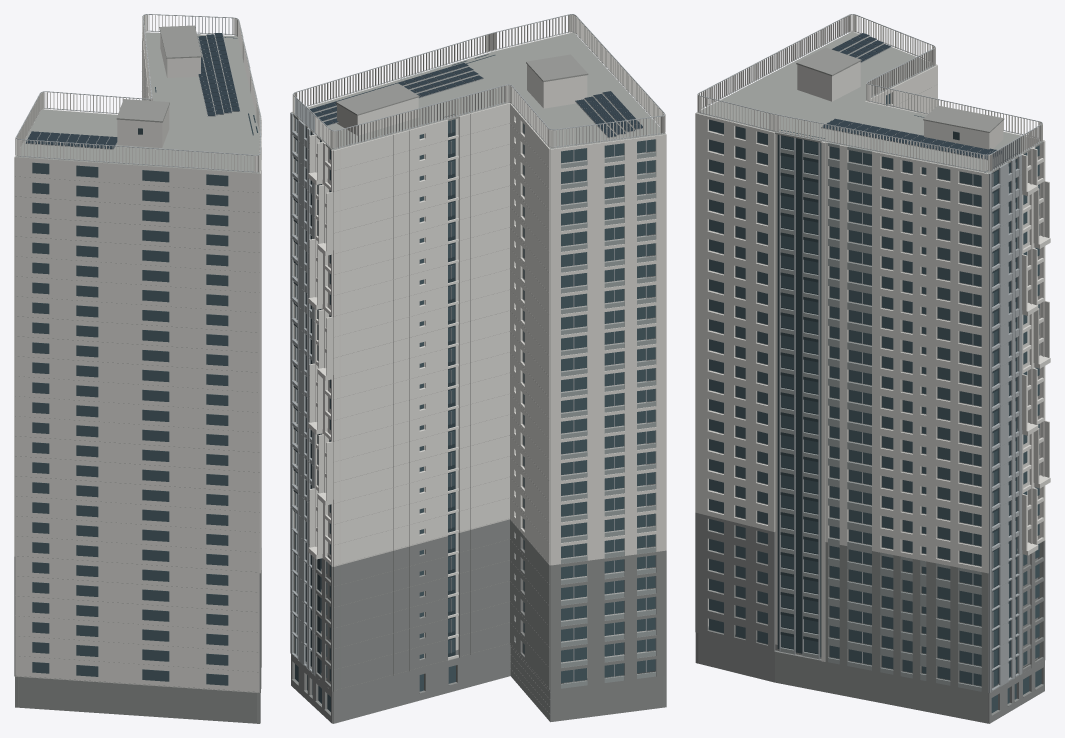
The model's file is bespoke-maple-xi-214.glb.
The picture shows the model from 3 angles, left to right: view 1: azimuth 30°, elevation 25°; view 2: azimuth 150°, elevation 25°; view 3: azimuth 270°, elevation 25°; orthographic projection. The views are drawn at different scales.
Parts seen in each view (by area): view 1: Maple214_214_inner_parallel_offset_body, Maple214_NE_bedroom_glass, Maple214_214_L_roof_plate, Maple214_214_ground_inset_core, Maple214_NE_metal_floor_panel_joint, Maple214_long_SE_PV_cells, Maple214_NE_bedroom_unequal_sash, Maple214_long_SE_PV_frame; view 2: Maple214_214_inner_parallel_offset_body, Maple214_214_ground_inset_core, Maple214_NE_bedroom_glass, Maple214_NE_bedroom_unequal_sash, Maple214_214_L_roof_plate, Maple214_NW_shortarm_floor_spandrel, Maple214_NE_metal_floor_panel_joint, Maple214_NE_metal_deep_back, Maple214_long_SE_PV_cells, Maple214_long_SE_PV_frame; view 3: Maple214_214_inner_parallel_offset_body, Maple214_NE_bedroom_glass, Maple214_214_ground_inset_core, Maple214_NE_bedroom_unequal_sash, Maple214_NW_shortarm_floor_spandrel, Maple214_NE_metal_deep_back, Maple214_214_L_roof_plate, Maple214_NE_metal_floor_panel_joint, Maple214_long_SE_PV_cells.
Boxes of the visible parts, left/top/right/bottom form: Maple214_214_inner_parallel_offset_body: left=14, top=14, right=261, bottom=692; Maple214_NE_bedroom_glass: left=32, top=162, right=228, bottom=685; Maple214_214_L_roof_plate: left=15, top=32, right=260, bottom=173; Maple214_214_ground_inset_core: left=14, top=547, right=261, bottom=723; Maple214_NE_metal_floor_panel_joint: left=15, top=25, right=259, bottom=692; Maple214_long_SE_PV_cells: left=26, top=33, right=239, bottom=148; Maple214_NE_bedroom_unequal_sash: left=16, top=14, right=260, bottom=172; Maple214_long_SE_PV_frame: left=25, top=33, right=240, bottom=149; Maple214_214_inner_parallel_offset_body: left=291, top=15, right=666, bottom=677; Maple214_214_ground_inset_core: left=291, top=519, right=666, bottom=723; Maple214_NE_bedroom_glass: left=295, top=118, right=655, bottom=711; Maple214_NE_bedroom_unequal_sash: left=290, top=14, right=664, bottom=681; Maple214_214_L_roof_plate: left=292, top=32, right=665, bottom=150; Maple214_NW_shortarm_floor_spandrel: left=400, top=67, right=655, bottom=688; Maple214_NE_metal_floor_panel_joint: left=290, top=54, right=588, bottom=713; Maple214_NE_metal_deep_back: left=293, top=54, right=495, bottom=674; Maple214_long_SE_PV_cells: left=310, top=63, right=642, bottom=137; Maple214_long_SE_PV_frame: left=313, top=65, right=642, bottom=137; Maple214_214_inner_parallel_offset_body: left=695, top=14, right=1050, bottom=661; Maple214_NE_bedroom_glass: left=709, top=93, right=1041, bottom=712; Maple214_214_ground_inset_core: left=695, top=512, right=1045, bottom=723; Maple214_NE_bedroom_unequal_sash: left=697, top=14, right=1042, bottom=692; Maple214_NW_shortarm_floor_spandrel: left=780, top=142, right=981, bottom=691; Maple214_NE_metal_deep_back: left=777, top=115, right=1017, bottom=683; Maple214_214_L_roof_plate: left=696, top=31, right=1043, bottom=173; Maple214_NE_metal_floor_panel_joint: left=796, top=47, right=1021, bottom=692; Maple214_long_SE_PV_cells: left=821, top=33, right=1001, bottom=159.
Bounding box in the file's own units: 47.56 × 89.6 × 49.99.
